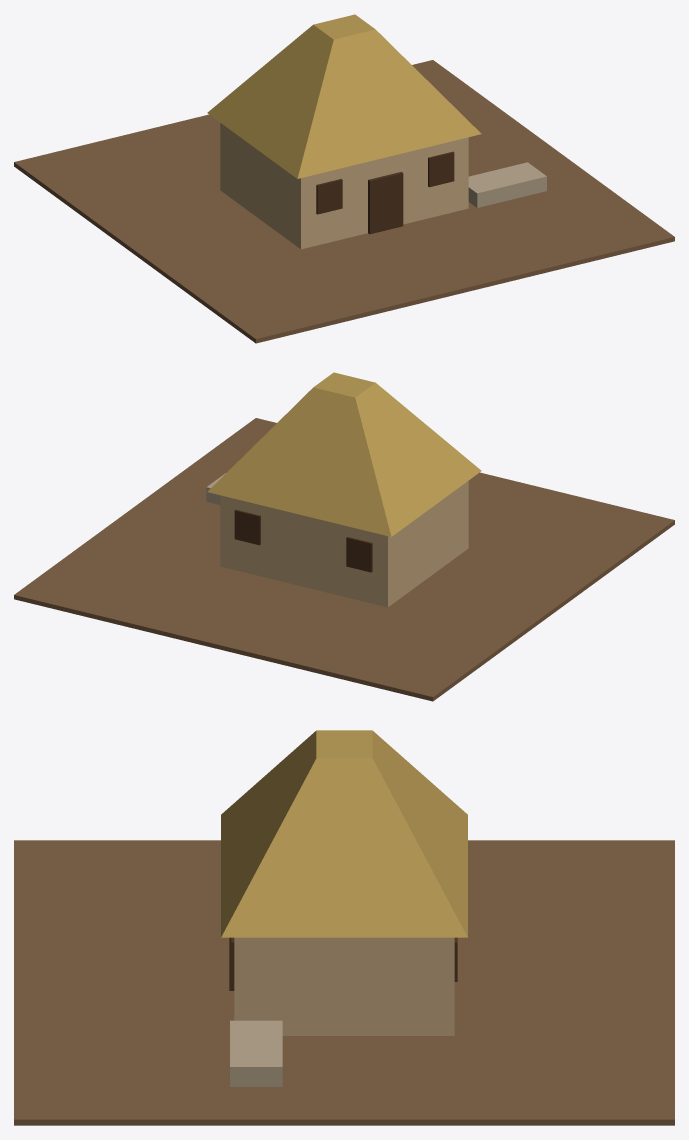
File: bld_special_hospital_a01.glb
3 views of the same model, one above another, from view 1: azimuth 30°, elevation 25°; view 2: azimuth 150°, elevation 25°; view 3: azimuth 270°, elevation 25° (orthographic). The views are drawn at different scales.
Visible parts, largest first — view 1: body; view 2: body; view 3: body.
Boxes of the visible parts, box(x1,y1,x2,y2) form: body: box(14, 14, 674, 343); body: box(14, 372, 674, 701); body: box(14, 730, 674, 1125).
Size of what is drawn, in the model's own units: 15 by 6.05 by 15.
